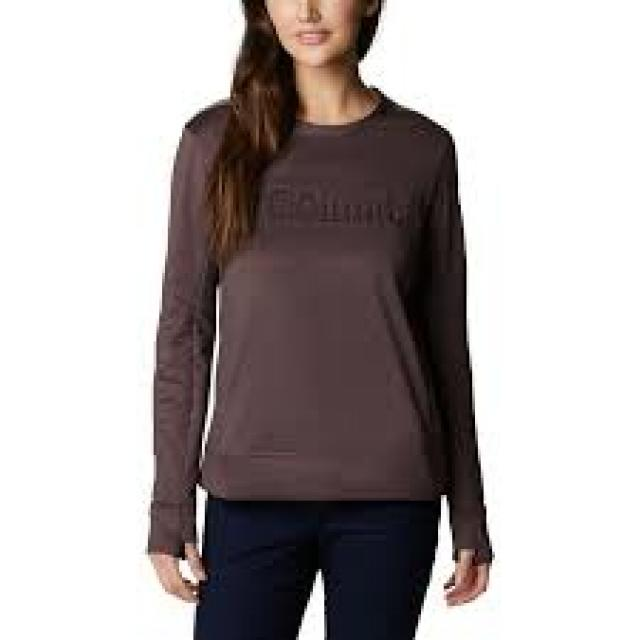plain: (142, 83, 492, 545)
